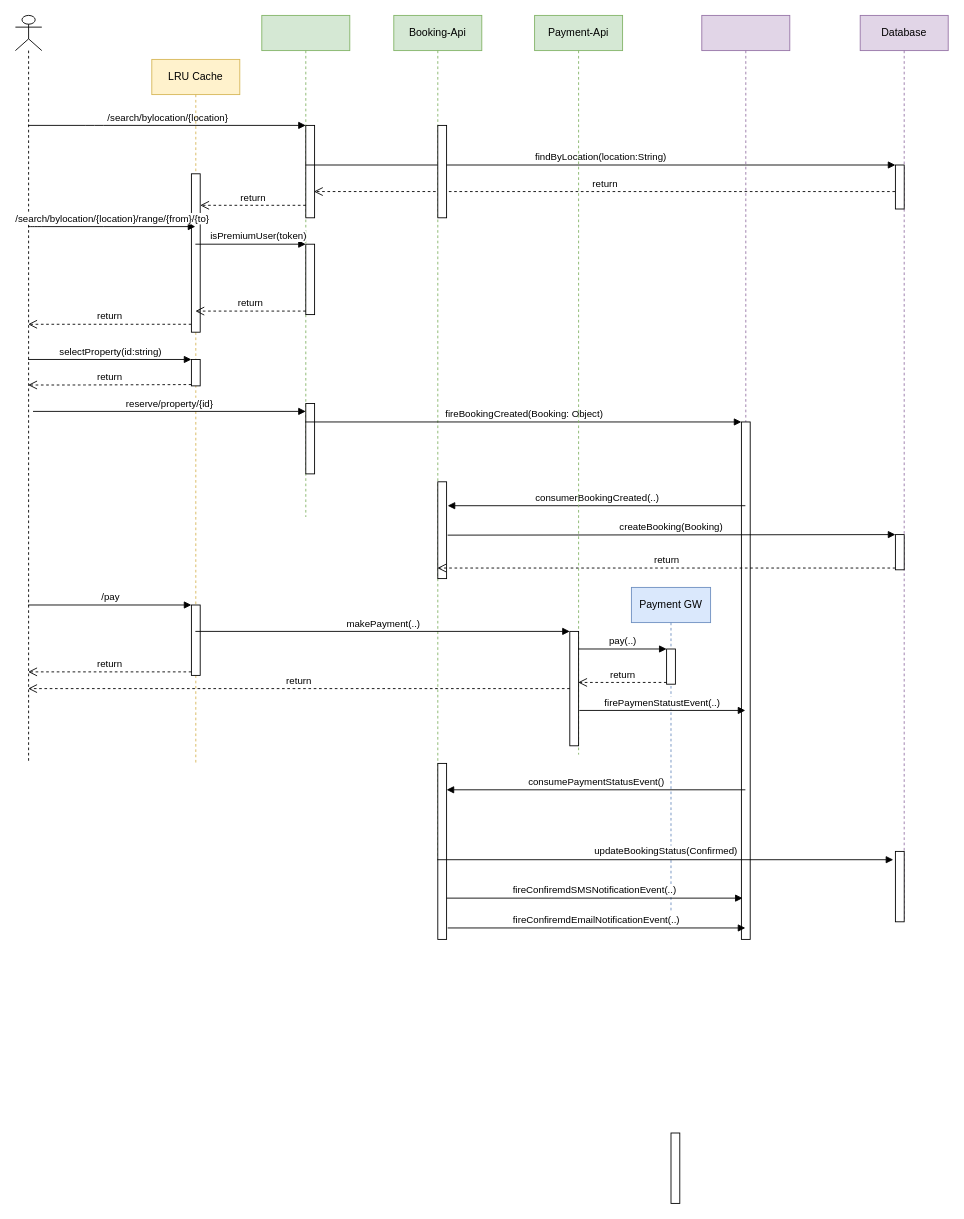
This 964x1219 diagram has some shape labels left out. The shapes that lost their labels are listed below. From the top down, each one's box as (x1, y1, x2, y2) in pixels, then its label:
(261, 15, 350, 517): Search-Api
(701, 15, 790, 939): Kafka Brokers
